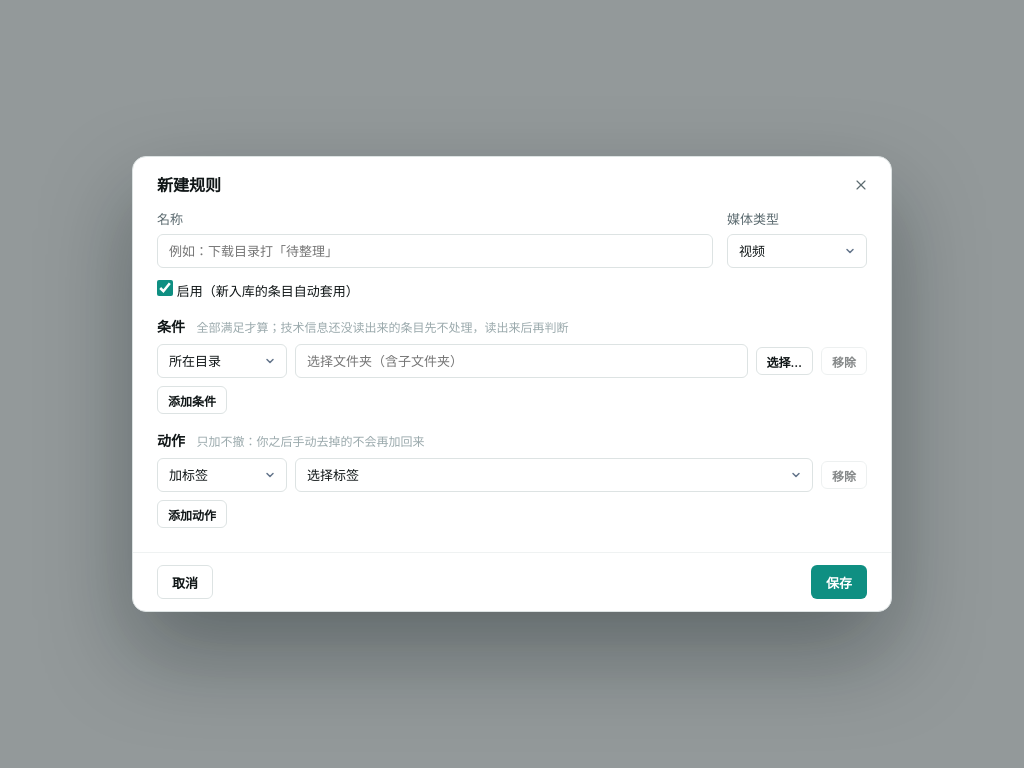
Test: 规则编辑 › 换成图片：去掉只适用于视频的条件与「加入作品集」，条件下拉只剩图片适用的类型
Select "时长" in the dropdown with test id "rule-condition-type" at point(222, 361), box top-left (157, 344), bottom-right (287, 378)
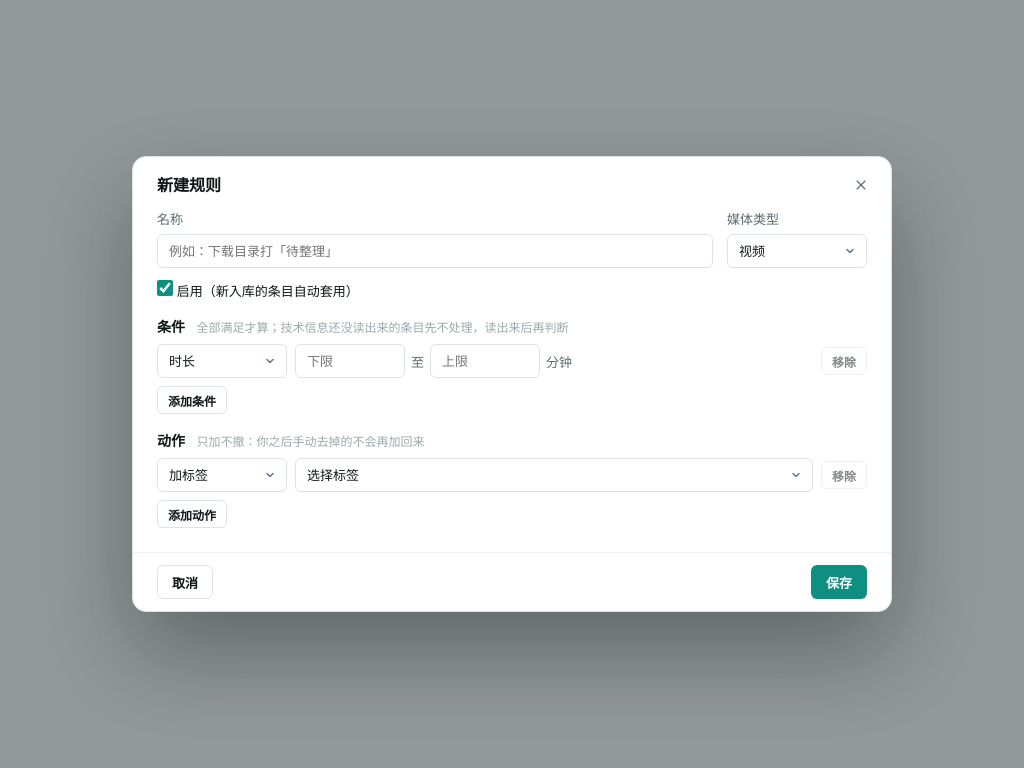
Select "加入作品集" in the dropdown with test id "rule-action-type" at point(222, 475), box top-left (157, 458), bottom-right (287, 492)
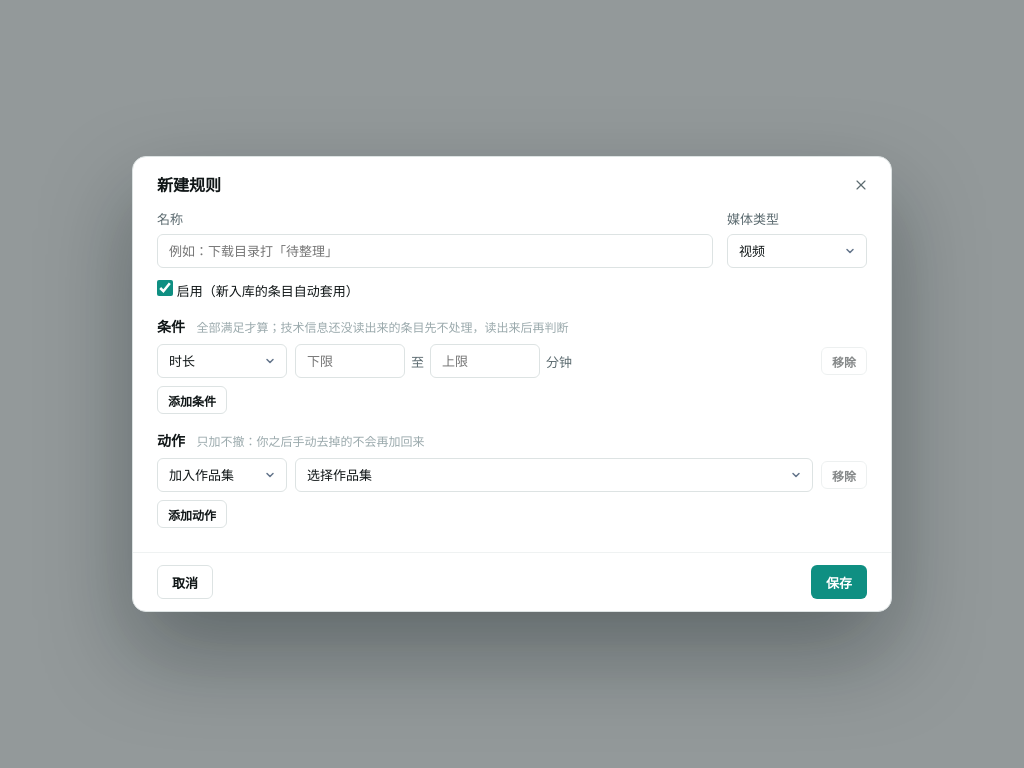
Select "图片" in the dropdown with test id "rule-kind" at point(797, 251), box top-left (727, 234), bottom-right (867, 268)
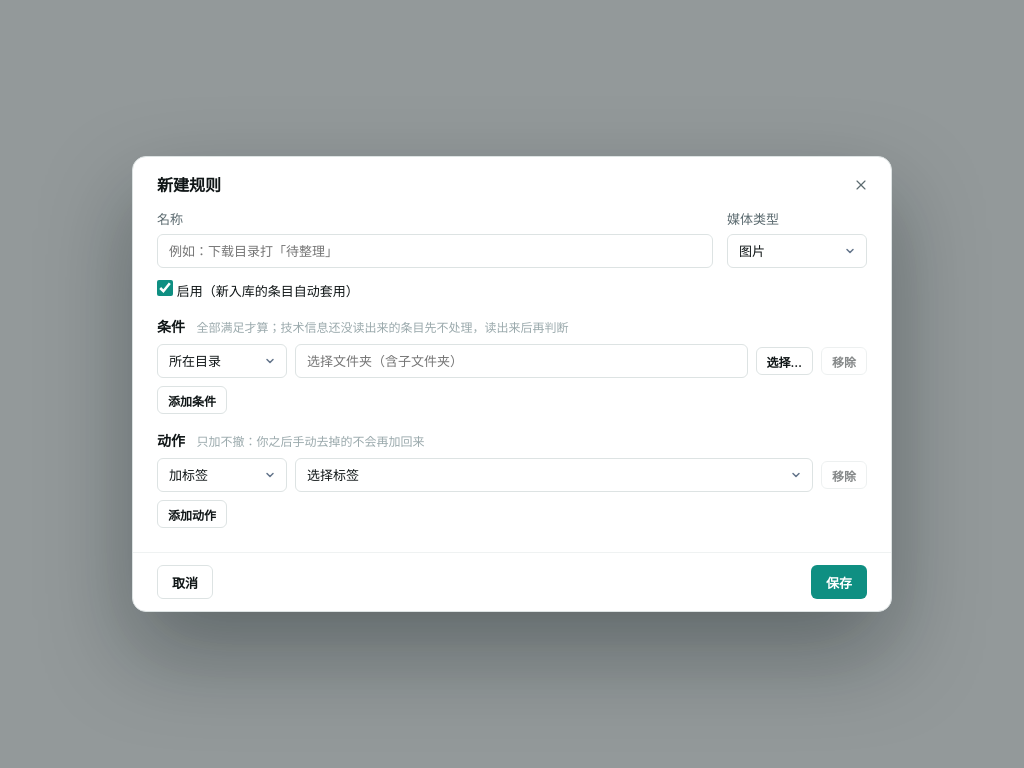
Result: the dropdown with test id "rule-condition-type" shows "所在目录" at top-left (157, 344), bottom-right (287, 378)
